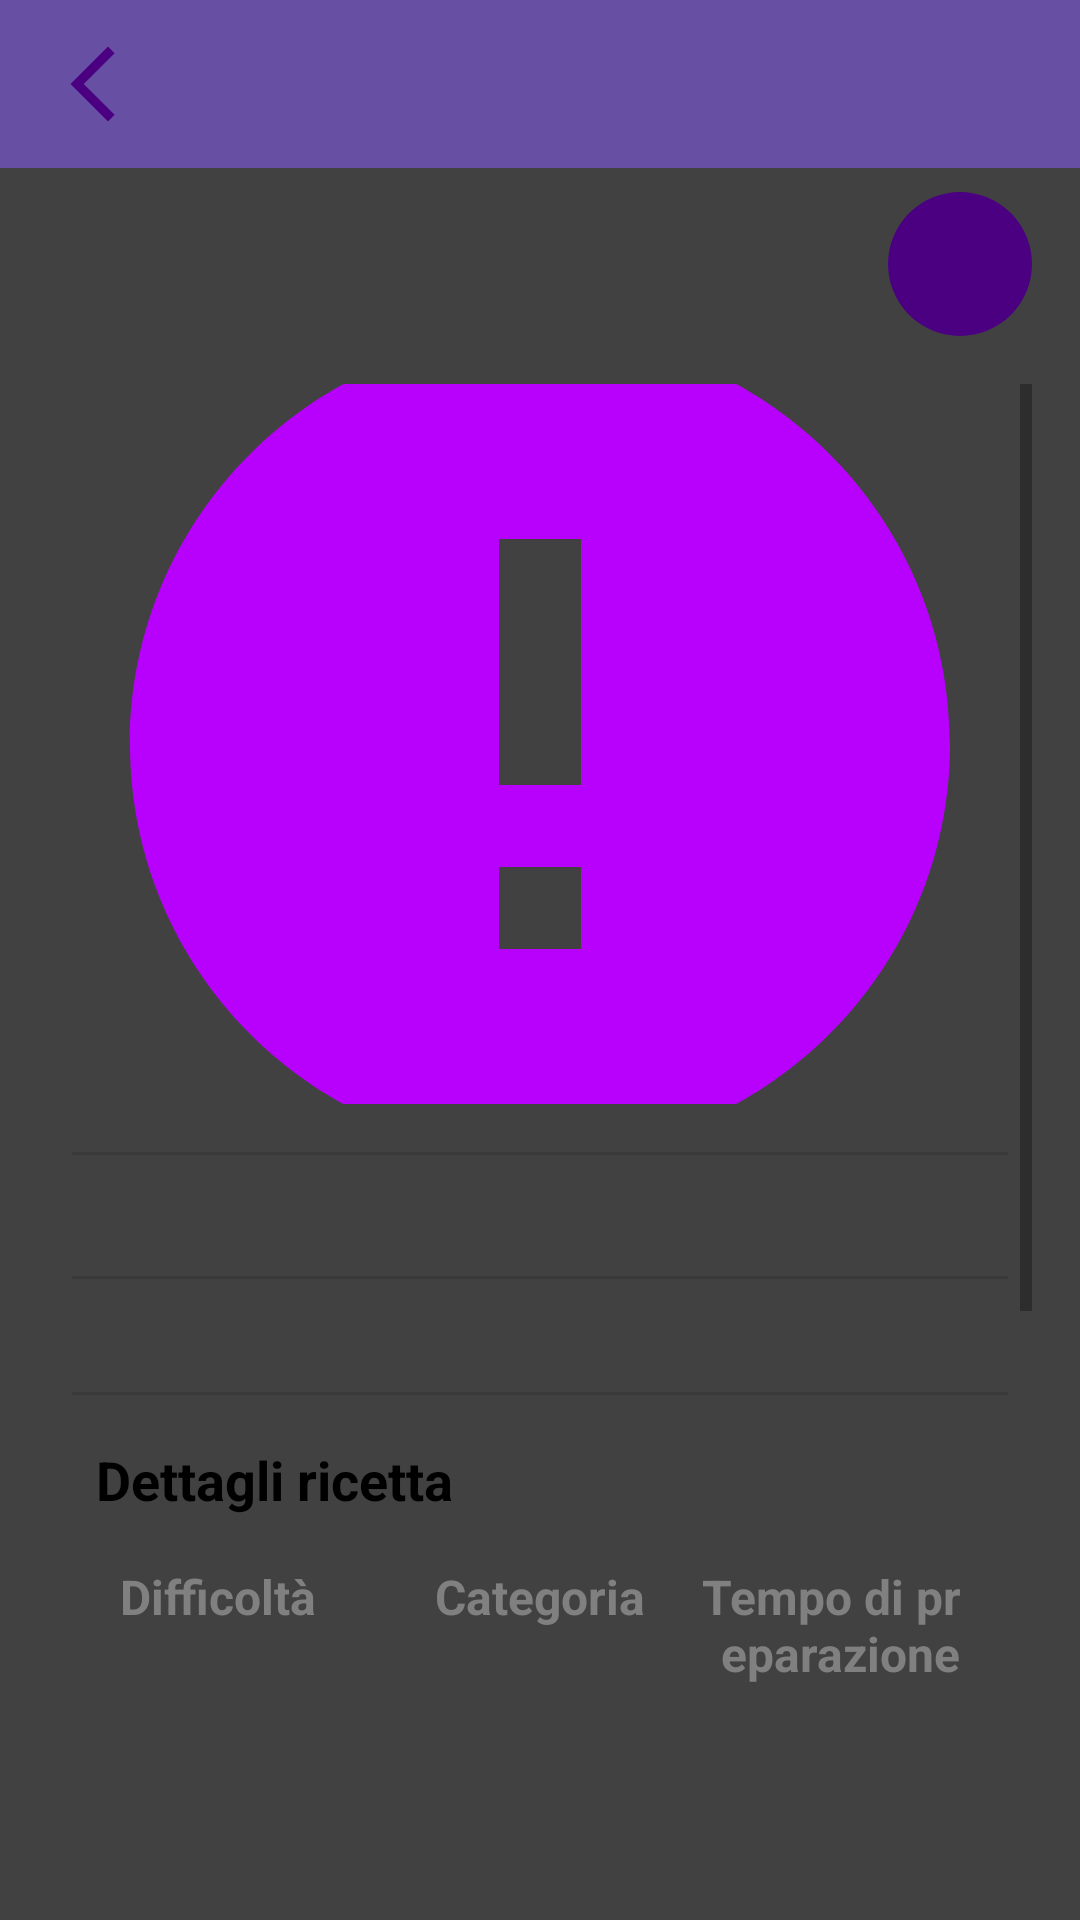

Screen size 1080w x 1920h. Icon name, then its box in pixels as [x1,y1,x2,y2]:
arrow back: [71,47,115,121]
